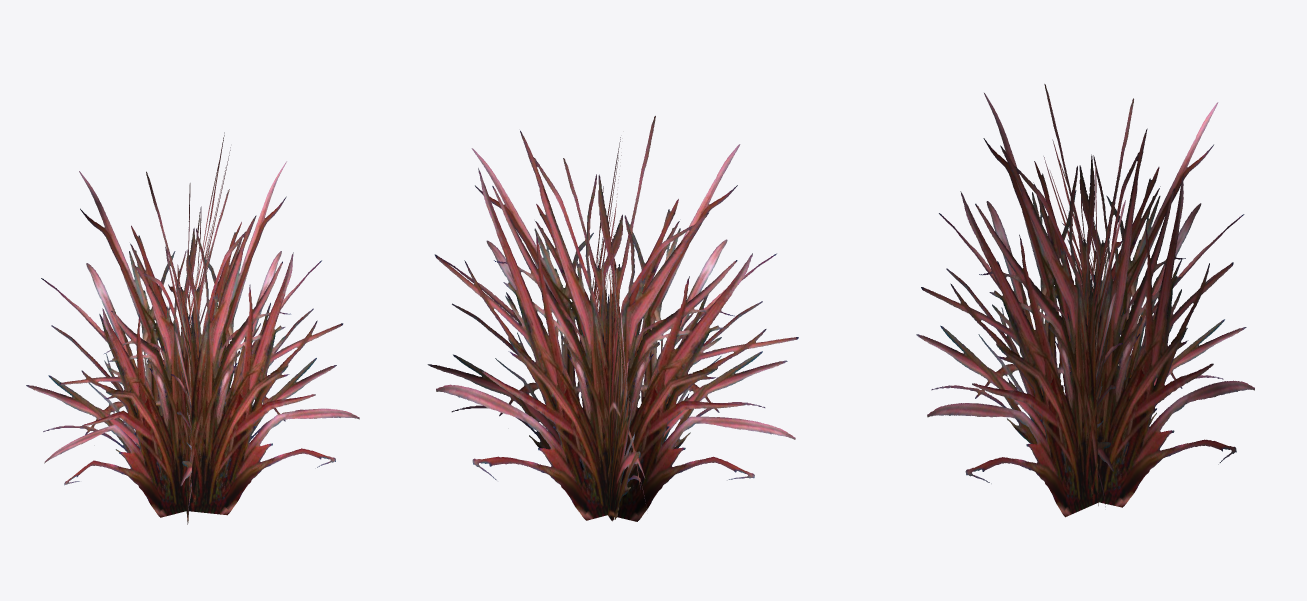
File: obj__flax1r.obj
3 views of the same model, side by side, from view 1: azimuth 30°, elevation 25°; view 2: azimuth 150°, elevation 25°; view 3: azimuth 270°, elevation 25° (orthographic). The views are drawn at different scales.
Visible parts, largest first — view 1: flax1r.tga; view 2: flax1r.tga; view 3: flax1r.tga.
Part boxes in pixels (x1,y1,x2,y2): flax1r.tga: (26,132,359,524); flax1r.tga: (427,116,798,521); flax1r.tga: (916,84,1254,517).
Bounding box in the file's own units: 95.02 × 108 × 83.77.
Materials: 1 (1 with a texture image).
